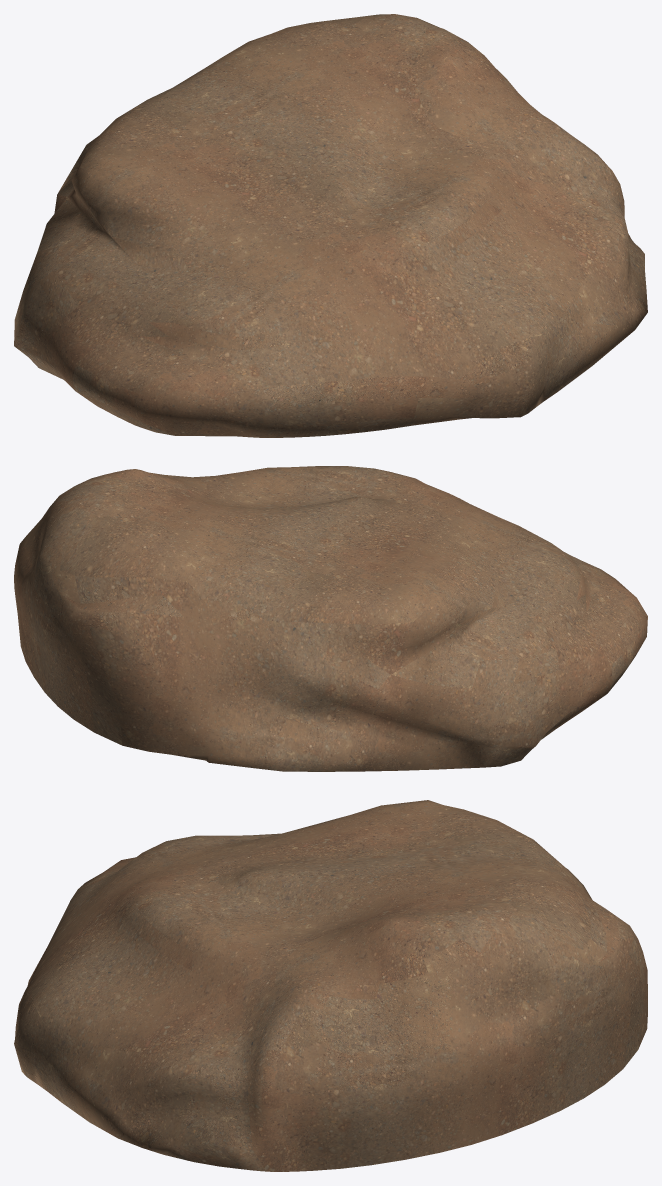
File: SM_Block_Ground.003.fbx
3 renders of one model, top to bottom at view 1: azimuth 30°, elevation 25°; view 2: azimuth 150°, elevation 25°; view 3: azimuth 270°, elevation 25°, orthographic. The views are drawn at different scales.
Visible parts, largest first — view 1: SM_Block_Ground.003; view 2: SM_Block_Ground.003; view 3: SM_Block_Ground.003.
Boxes of the visible parts, x1,y1,x2,y2 form: SM_Block_Ground.003: (14, 14, 647, 437); SM_Block_Ground.003: (14, 466, 647, 771); SM_Block_Ground.003: (14, 800, 647, 1171).
Size of the model in its own units: 3.91 by 1.44 by 3.76.
